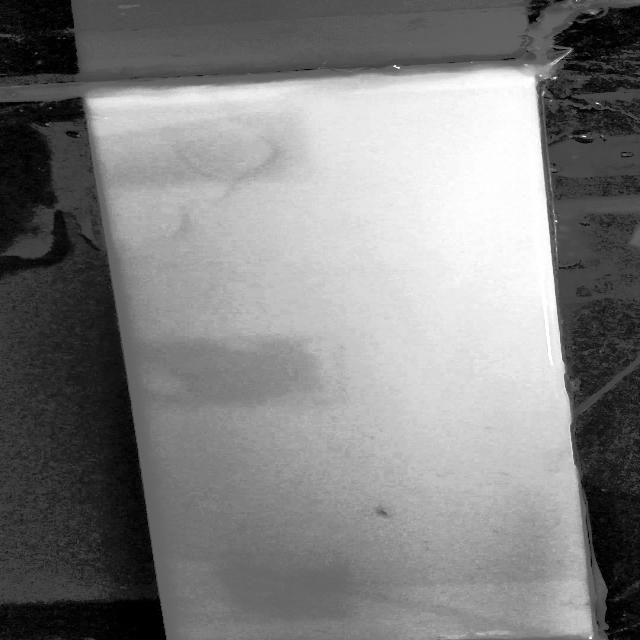shrimp: (368, 503, 402, 521)
